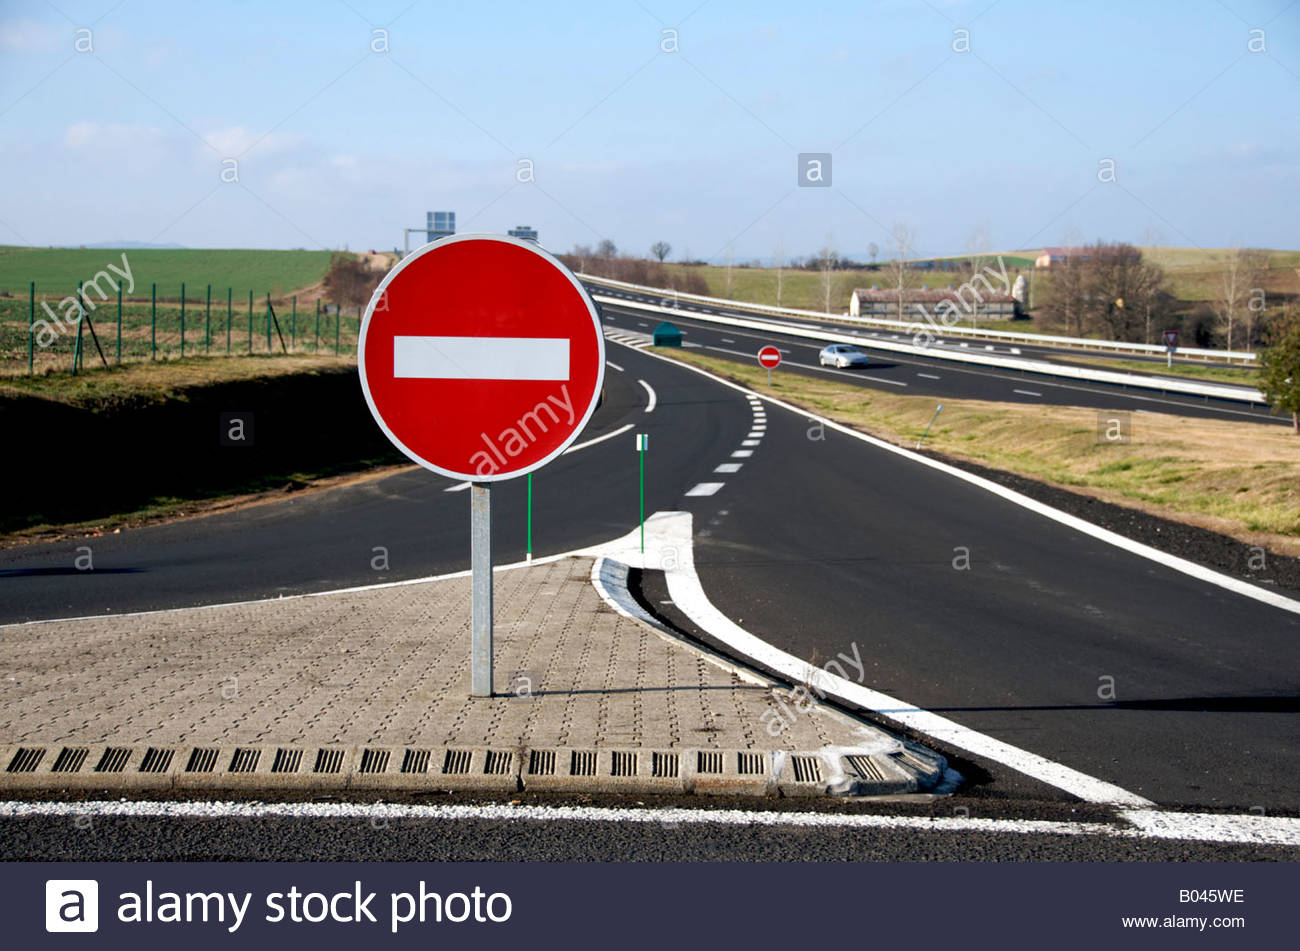No_entry: (354, 232, 605, 485)
